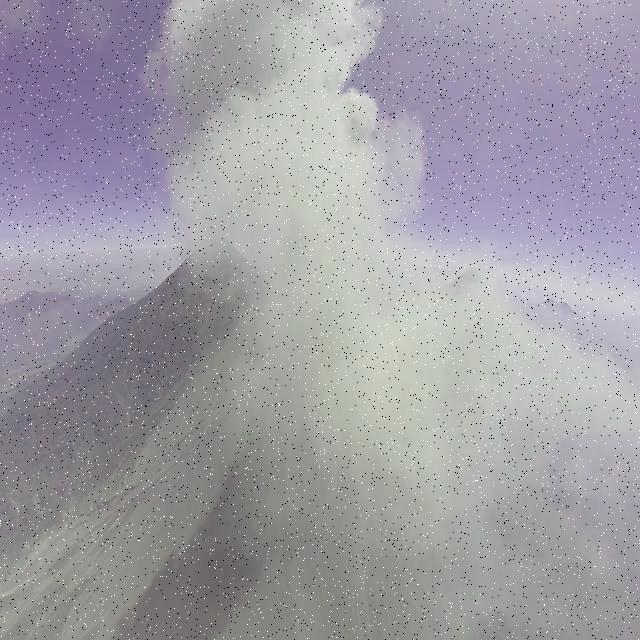Plume: (103, 7, 640, 616)
